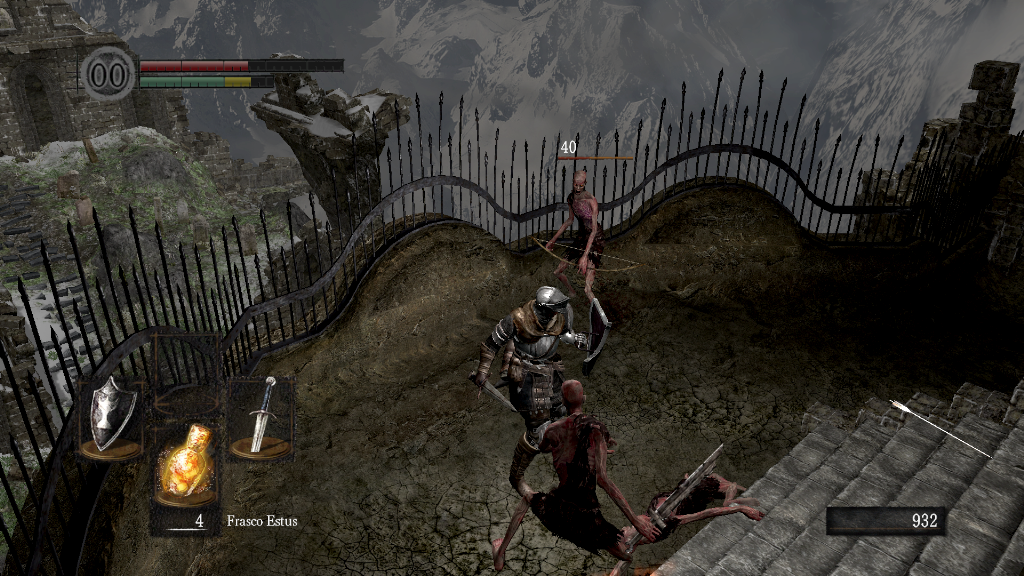health: (138, 58, 343, 71)
hollow: (497, 378, 630, 576), (532, 169, 613, 344)
humanity: (80, 45, 136, 102)
player: (467, 286, 613, 503)
souls: (825, 506, 945, 536)
stamina: (138, 74, 274, 88)
